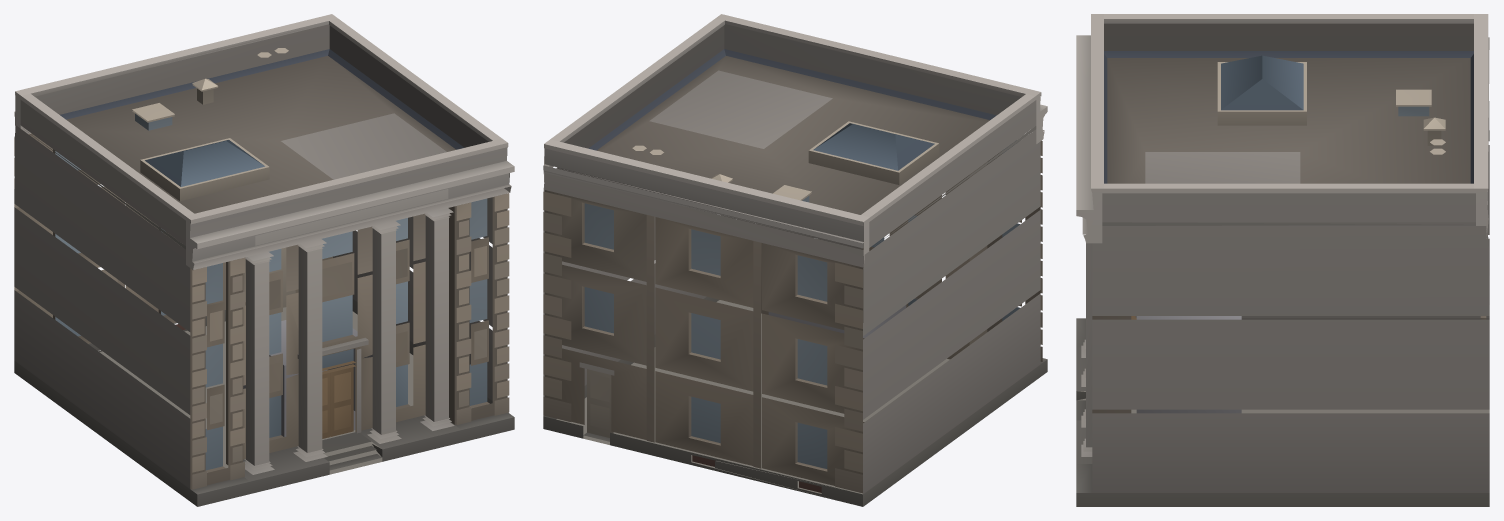
The model's file is bank.lod.glb.
3 views of the same model, side by side, from view 1: azimuth 30°, elevation 25°; view 2: azimuth 150°, elevation 25°; view 3: azimuth 270°, elevation 25° (orthographic). The views are drawn at different scales.
Parts seen in each view (by area): view 1: bank; view 2: bank; view 3: bank.
Boxes of the visible parts, left/top/right/bottom form: bank: left=14, top=14, right=514, bottom=506; bank: left=543, top=14, right=1047, bottom=506; bank: left=1076, top=14, right=1489, bottom=506.
Bounding box in the file's own units: 12 × 10.2 × 12.
